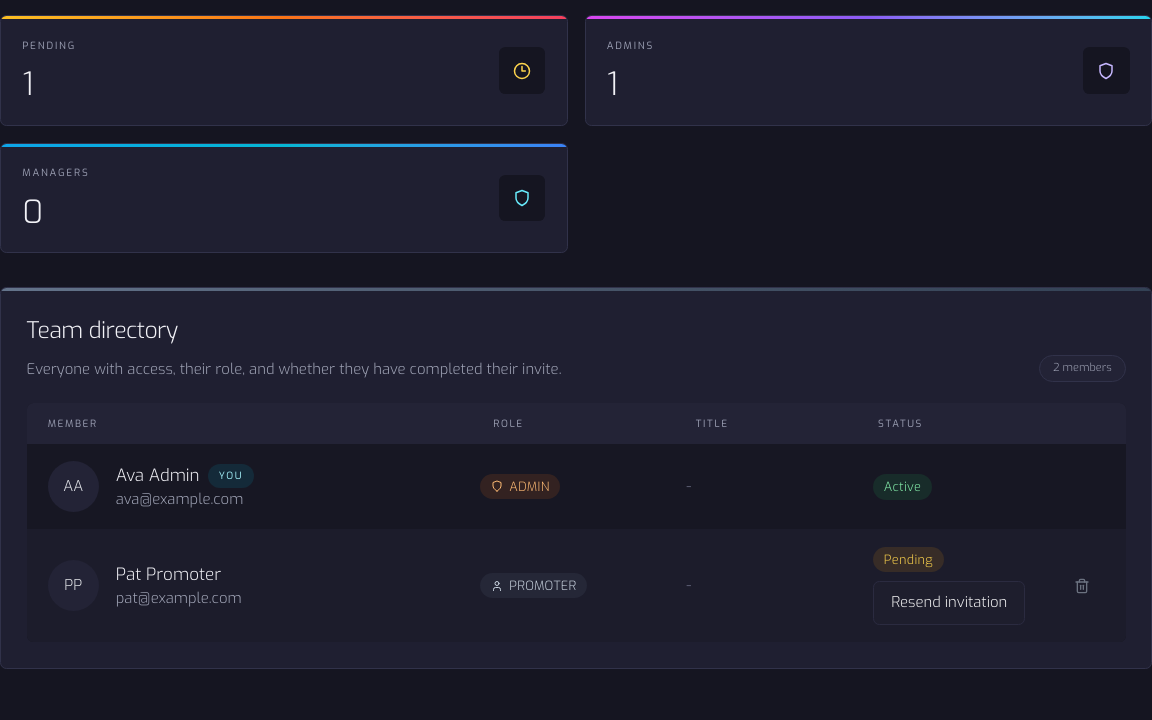
Test: TeamView › lets a scoped admin downgrade a lower-role team member
(page scrolled)
Check: the text "Pat Promoter" is shown, box [116,562,221,588]
Click the button "PROMOTER": (534, 586) [480,573,587,598]
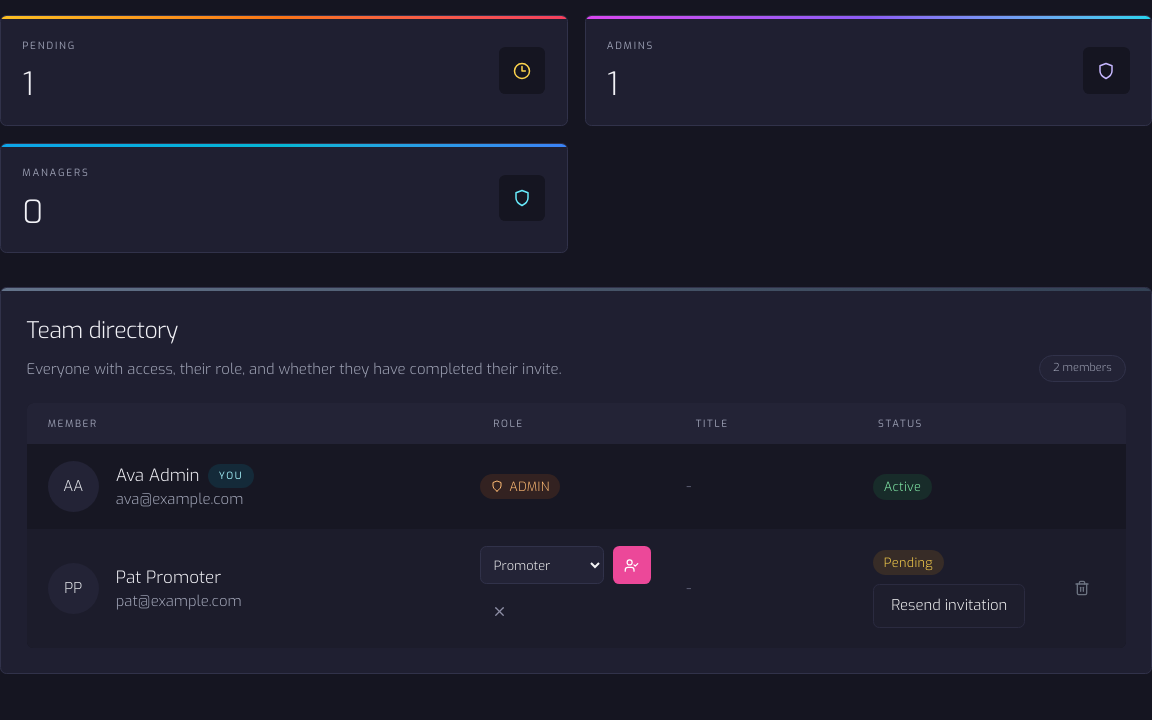
Select "Team Member" in the dropdown named "Role for Pat Promoter": (542, 565) [480,546,604,584]
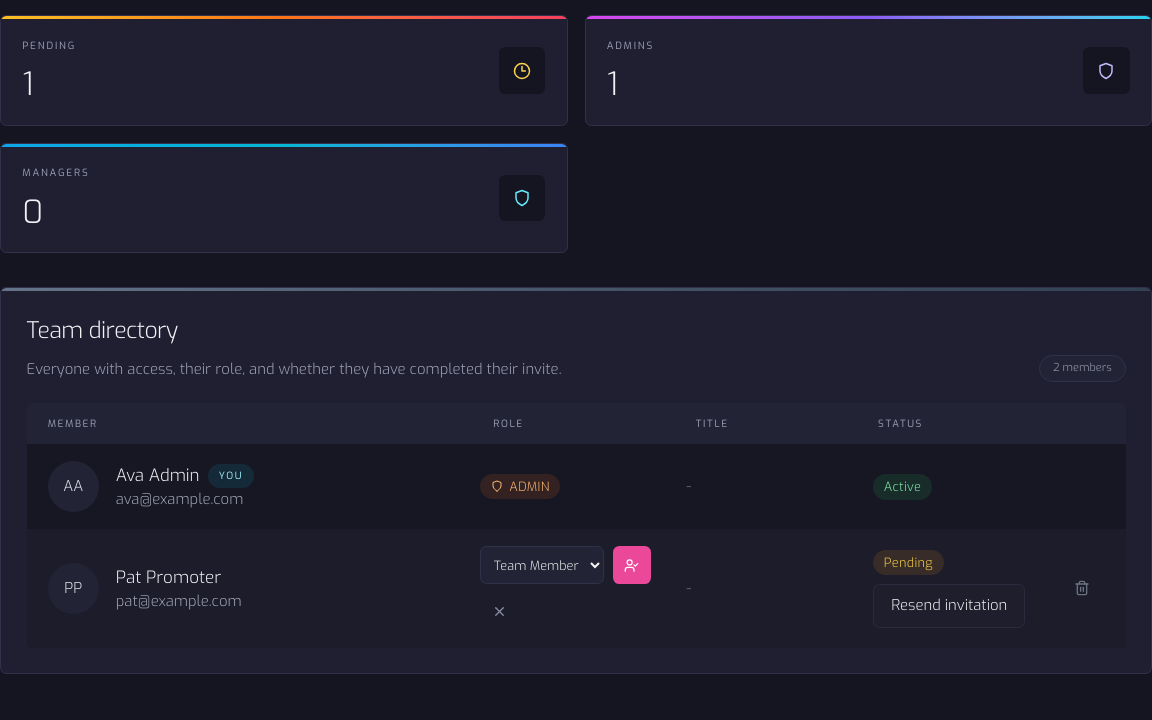
Click the button titled "Save role": (632, 565) [613,546,651,584]
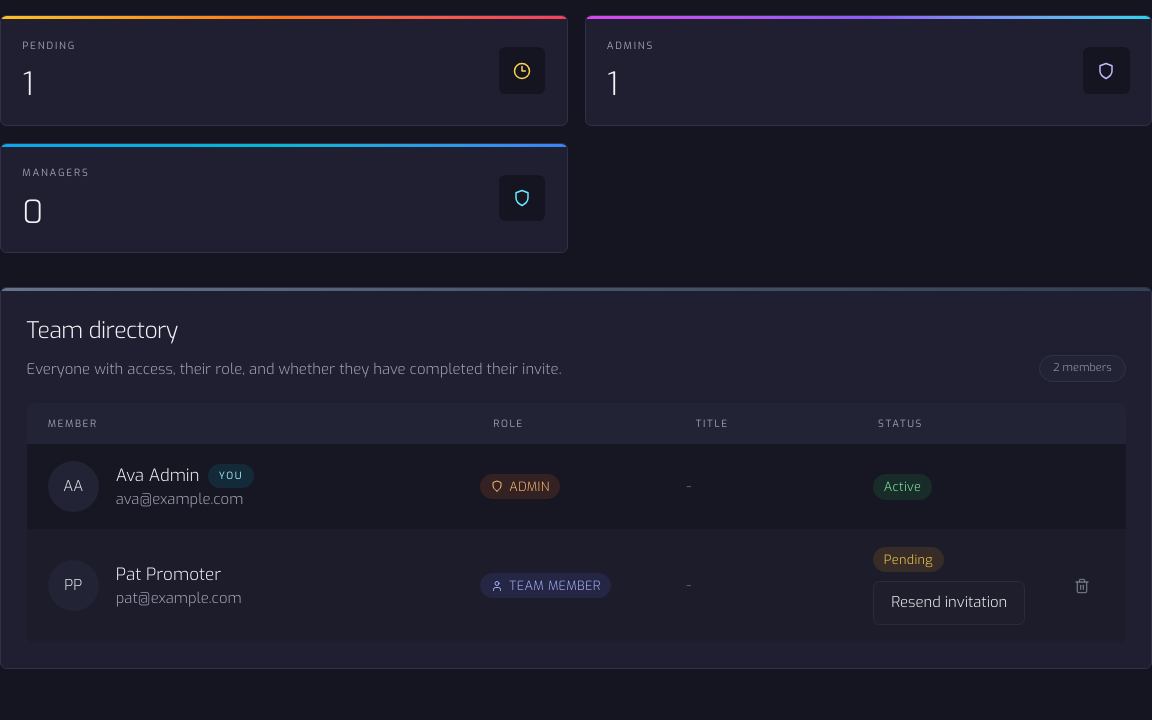
Check: the button "TEAM MEMBER" is shown, box [480,573,611,598]
